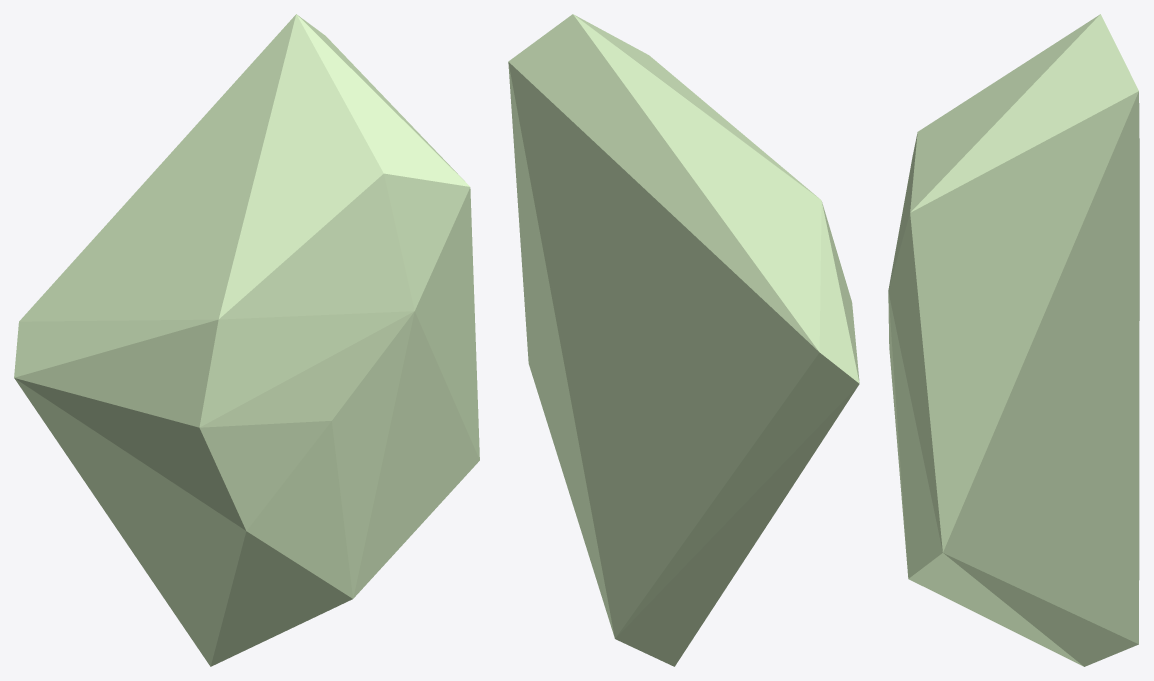
Rendered from kuka_robot_base_coll_4.dae.
The picture shows the model from 3 angles, left to right: view 1: azimuth 30°, elevation 25°; view 2: azimuth 150°, elevation 25°; view 3: azimuth 270°, elevation 25°; orthographic projection. The views are drawn at different scales.
Visible parts, largest first — view 1: Node_0000015C5C912980; view 2: Node_0000015C5C912980; view 3: Node_0000015C5C912980.
Boxes of the visible parts, box(x1,y1,x2,y2) form: Node_0000015C5C912980: box(14, 14, 479, 666); Node_0000015C5C912980: box(508, 14, 859, 666); Node_0000015C5C912980: box(888, 14, 1139, 666).
Size of the model in its own units: 0.0268 by 0.0404 by 0.0131.
